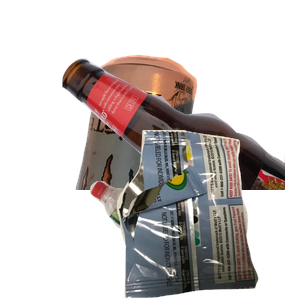glass: (60, 56, 300, 236)
metal: (73, 52, 263, 232)
plastic: (87, 178, 234, 300)
trash: (114, 130, 300, 300)
